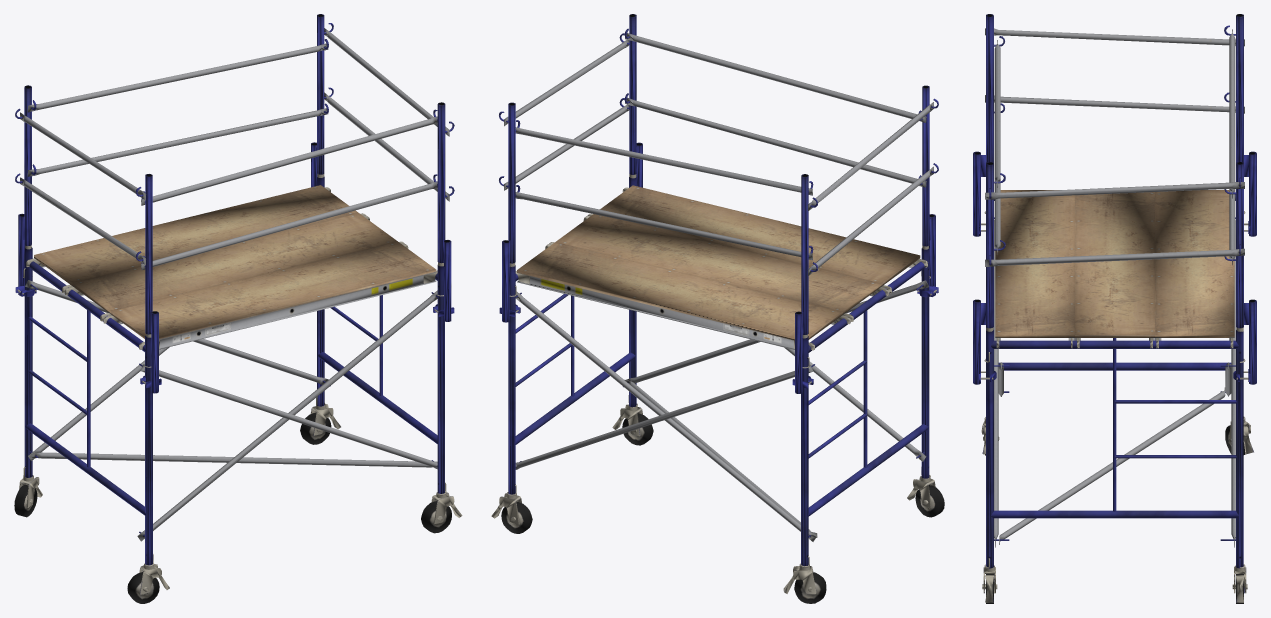
Rendered from scaffolding-v5.glb.
3 renders of one model, left to right at view 1: azimuth 30°, elevation 25°; view 2: azimuth 150°, elevation 25°; view 3: azimuth 270°, elevation 25°, orthographic. The views are drawn at different scales.
Visible parts, largest first — view 1: SM_Scaffolding_01b; view 2: SM_Scaffolding_01b; view 3: SM_Scaffolding_01b.
Part boxes in pixels (x1,y1,x2,y2): SM_Scaffolding_01b: (14, 14, 462, 603); SM_Scaffolding_01b: (491, 14, 944, 603); SM_Scaffolding_01b: (973, 14, 1256, 603).
Size of the model in its own units: 1.94 by 2.39 by 1.39.
1 material, 1 textured.
